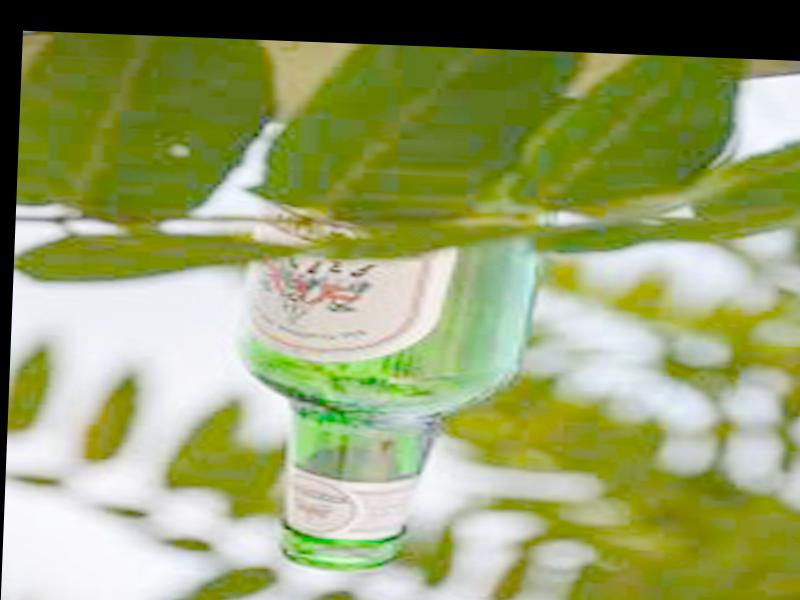Beer: (233, 193, 536, 577)
